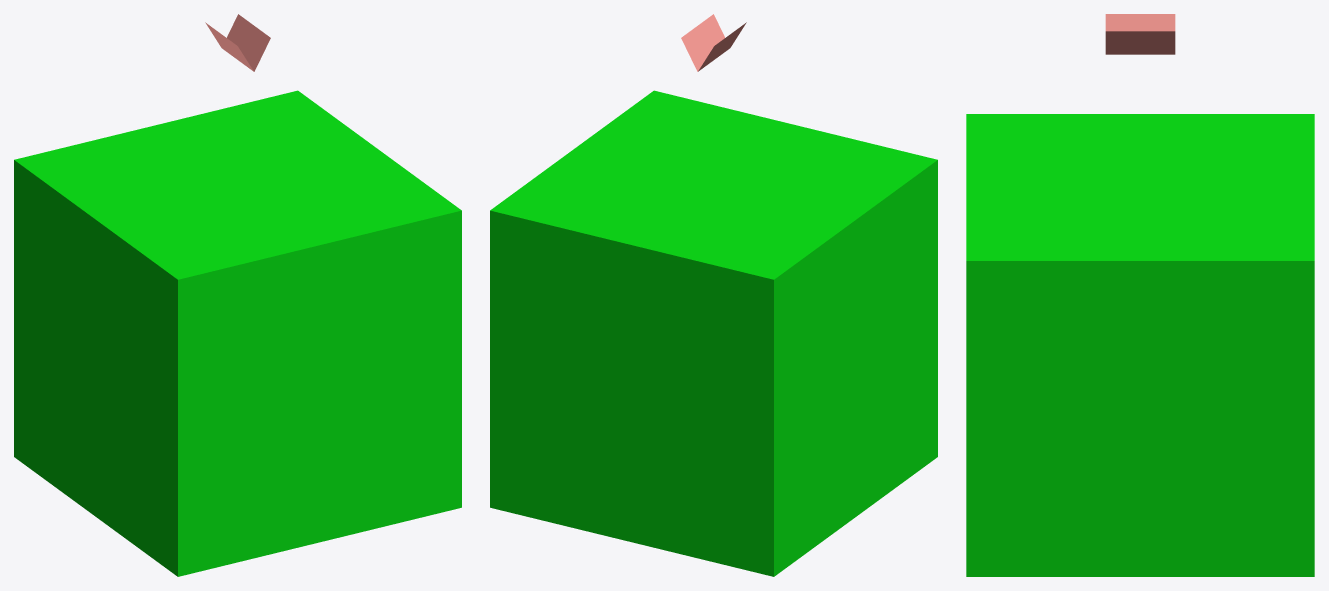
Rendered from butterfly.gltf.
The picture shows the model from 3 angles, left to right: view 1: azimuth 30°, elevation 25°; view 2: azimuth 150°, elevation 25°; view 3: azimuth 270°, elevation 25°; orthographic projection. The views are drawn at different scales.
Parts seen in each view (by area): view 1: Plane; view 2: Plane; view 3: Plane.
Boxes of the visible parts, x1,y1,x2,y2 form: Plane: [14, 14, 461, 576]; Plane: [490, 14, 937, 576]; Plane: [966, 14, 1314, 576].
Size of the model in its own units: 2 by 3.04 by 2.
